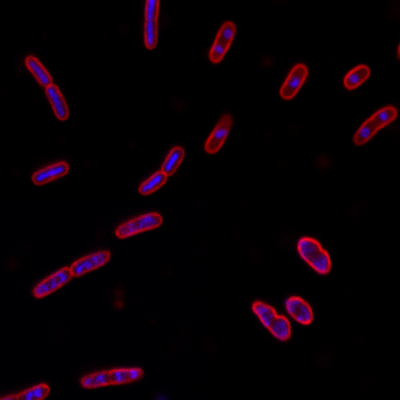CAM: (350, 104, 398, 147), (206, 20, 236, 63), (278, 63, 308, 101), (342, 63, 370, 88)
Control: (30, 248, 111, 301)
Mecillinam: (250, 298, 292, 343), (296, 235, 332, 275), (283, 292, 315, 328)
Oblique: (79, 365, 143, 389), (113, 211, 163, 239), (202, 112, 234, 154)
Rifampicin: (23, 55, 71, 122), (136, 144, 185, 197), (29, 159, 70, 188)
